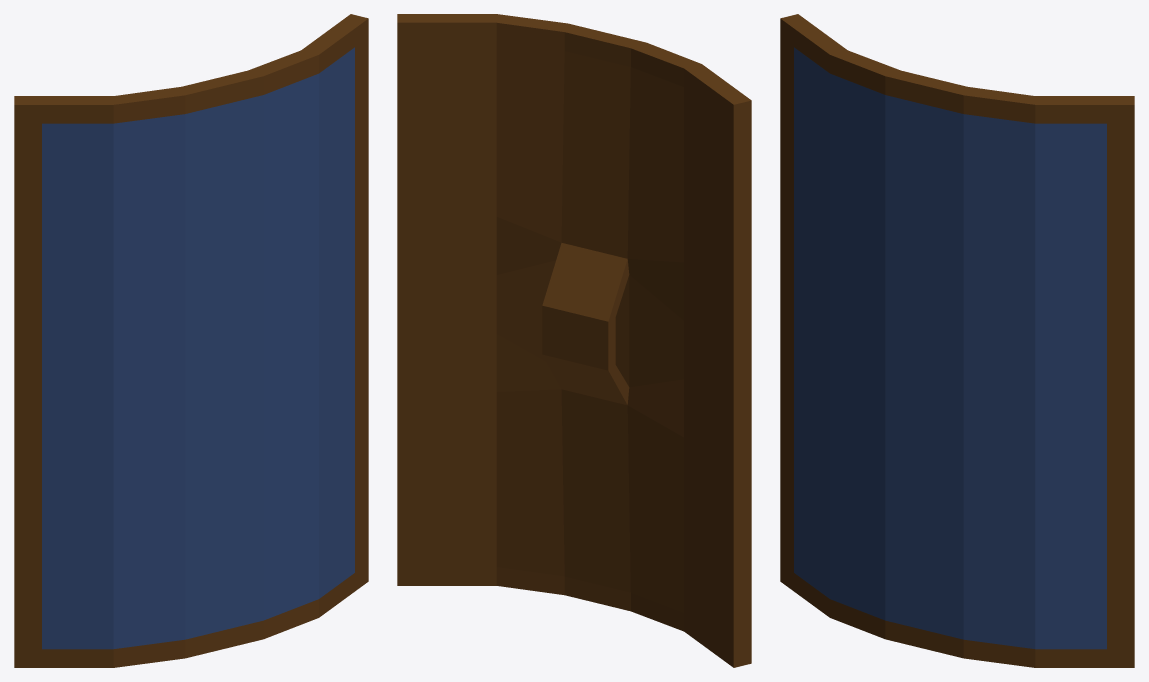
Rendered from MithrilSquareShield.glb.
The picture shows the model from 3 angles, left to right: view 1: azimuth 30°, elevation 25°; view 2: azimuth 150°, elevation 25°; view 3: azimuth 330°, elevation 25°; orthographic projection.
Visible parts, largest first — view 1: SqShield; view 2: SqShield; view 3: SqShield.
Boxes of the visible parts, x1,y1,x2,y2 form: SqShield: [14, 14, 368, 667]; SqShield: [397, 14, 751, 667]; SqShield: [780, 14, 1134, 667].
Size of the model in its own units: 0.3953 by 0.6 by 0.0811.
